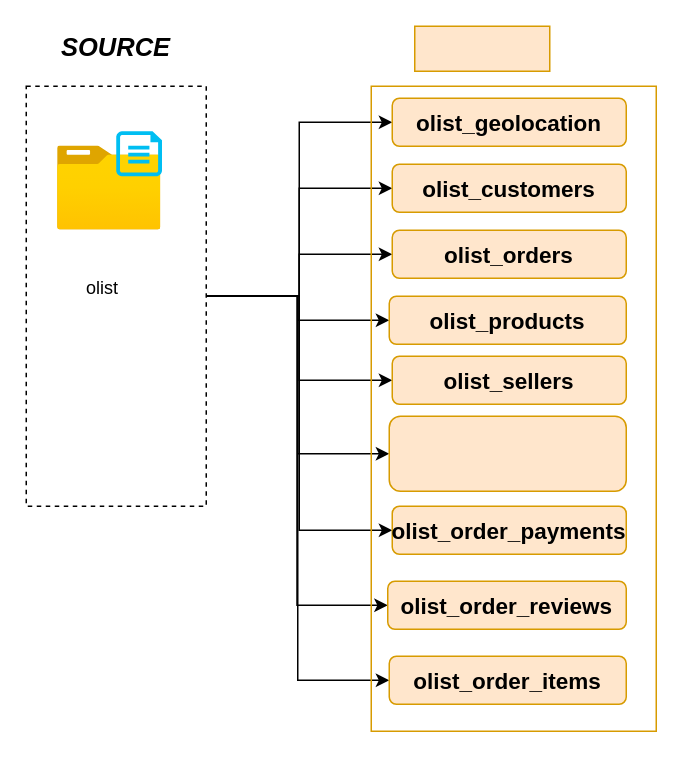
Image size: 683x758. Some labels were removed from this diagram. The shapes that lost their labels are listed below. From the top down, each one's centre as x and y in pixels, then its label:
(481,48): BRONZE
(507,453): olist_product _category_ name_translation
